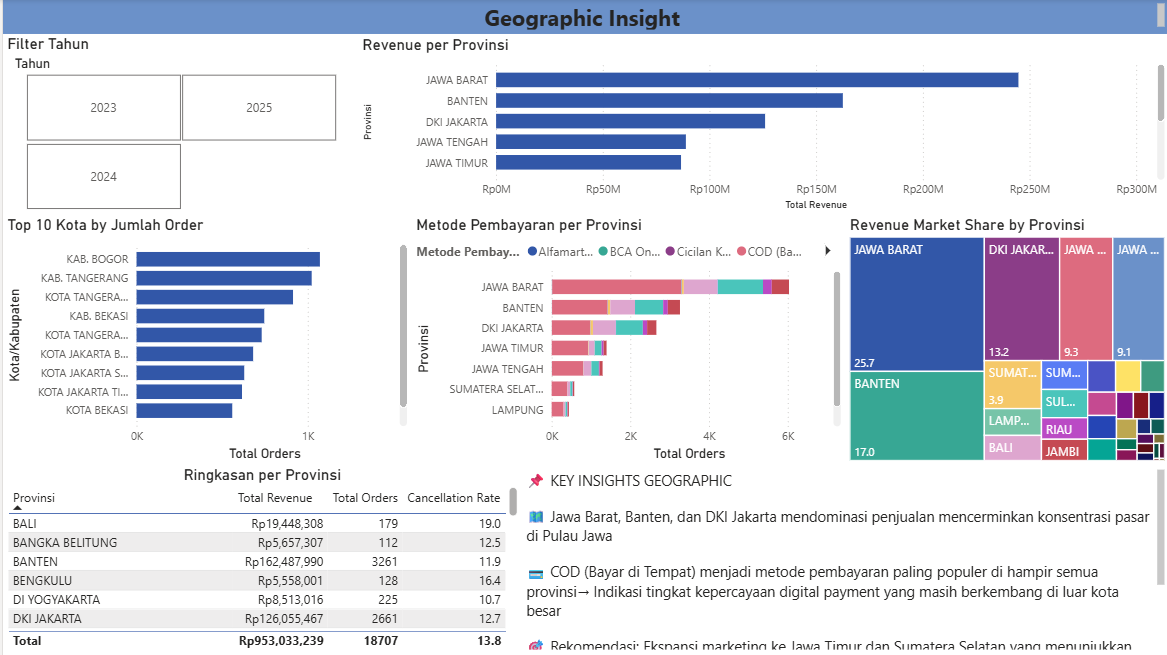

The dashboard page shown, as its layout file describes it:
{"tool":"powerbi","page":{"name":"Geographic Insight","canvas":[1280,720],"ordinal":2},"visuals":[{"type":"textbox","box":[0,0,1280.3,38.4],"z":0},{"type":"slicer","title":"Filter Tahun","fields":{"Values":["Dim_Waktu.Tahun"]},"box":[0,38.4,389.7,199],"z":1000},{"type":"clusteredBarChart","title":"Revenue per Provinsi","fields":{"Category":["Dim_Lokasi.Provinsi"],"Y":["_Measures.Total Revenue"]},"box":[389.7,39.8,890.6,197.6],"z":2000},{"type":"clusteredBarChart","title":"Top 10 Kota by Jumlah Order","fields":{"Category":["Dim_Lokasi.Kota/Kabupaten"],"Y":["_Measures.Total Orders"]},"box":[0,237.4,448.7,274.4],"z":3000},{"type":"barChart","title":"Metode Pembayaran per Provinsi","fields":{"Category":["Dim_Lokasi.Provinsi"],"Y":["_Measures.Total Orders"],"Series":["Fact_Penjualan.Metode Pembayaran"]},"box":[448.7,237.4,476.2,274.4],"z":4000},{"type":"tableEx","title":"Ringkasan per Provinsi","fields":{"Values":["Dim_Lokasi.Provinsi","_Measures.Total Revenue","_Measures.Total Orders","_Measures.Cancellation Rate"]},"box":[0,511.8,569.5,207.2],"z":5000},{"type":"textbox","box":[569.5,511.8,710.8,207.2],"z":6000},{"type":"treemap","fields":{"Values":["_Measures.Revenue Market Share"],"Group":["Dim_Lokasi.Provinsi"]},"box":[924.9,237.4,355.4,274.4],"z":7000}]}

Visuals, with their boxes in screenshot pixels (x1, y1, x2, y2), scaled from the page's 1280x720 canvas onto the 1167x655 screenshot:
textbox: 0 0 1166 35
"Filter Tahun" slicer: 0 35 355 216
"Revenue per Provinsi" clusteredBarChart: 355 36 1166 216
"Top 10 Kota by Jumlah Order" clusteredBarChart: 0 216 409 466
"Metode Pembayaran per Provinsi" barChart: 409 216 843 466
"Ringkasan per Provinsi" tableEx: 0 466 519 654
textbox: 519 466 1166 654
treemap - _Measures.Revenue Market Share x Dim_Lokasi.Provinsi: 843 216 1166 466
